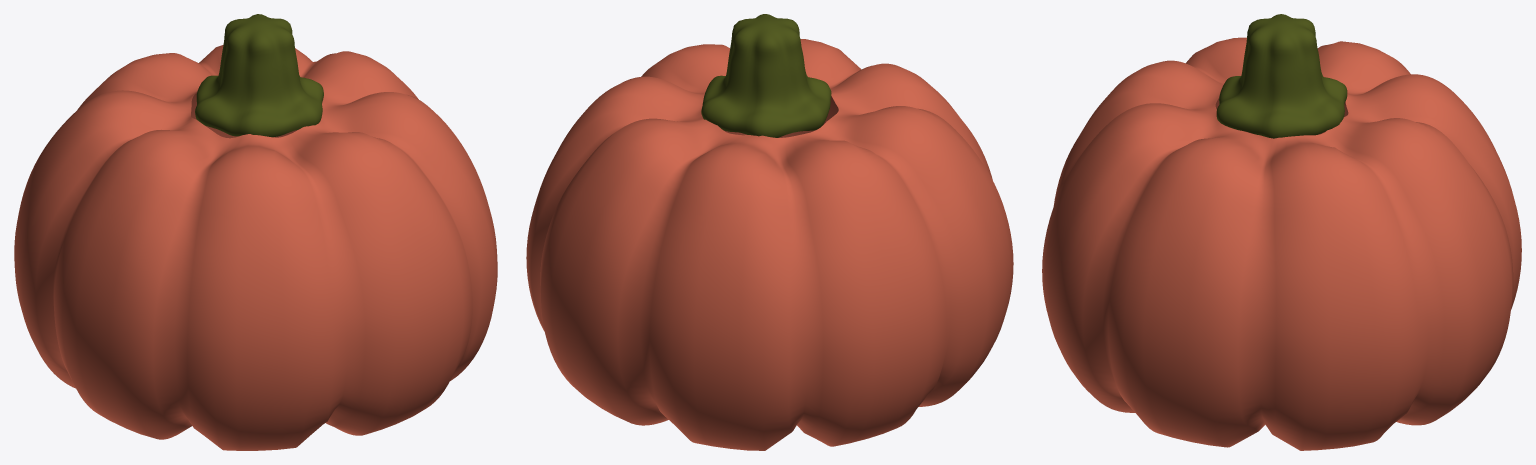
Rendered from kim-kue.glb.
3 renders of one model, left to right at view 1: azimuth 30°, elevation 25°; view 2: azimuth 150°, elevation 25°; view 3: azimuth 270°, elevation 25°, orthographic.
Parts seen in each view (by area): view 1: object; view 2: object; view 3: object.
Part boxes in pixels (bbox=[...]): object: bbox=[14, 14, 497, 450]; object: bbox=[526, 14, 1013, 450]; object: bbox=[1042, 14, 1521, 450].
Bounding box in the file's own units: 1.85 × 1.54 × 1.85.
